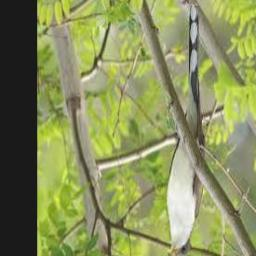Cuckoo: (165, 4, 205, 256)
